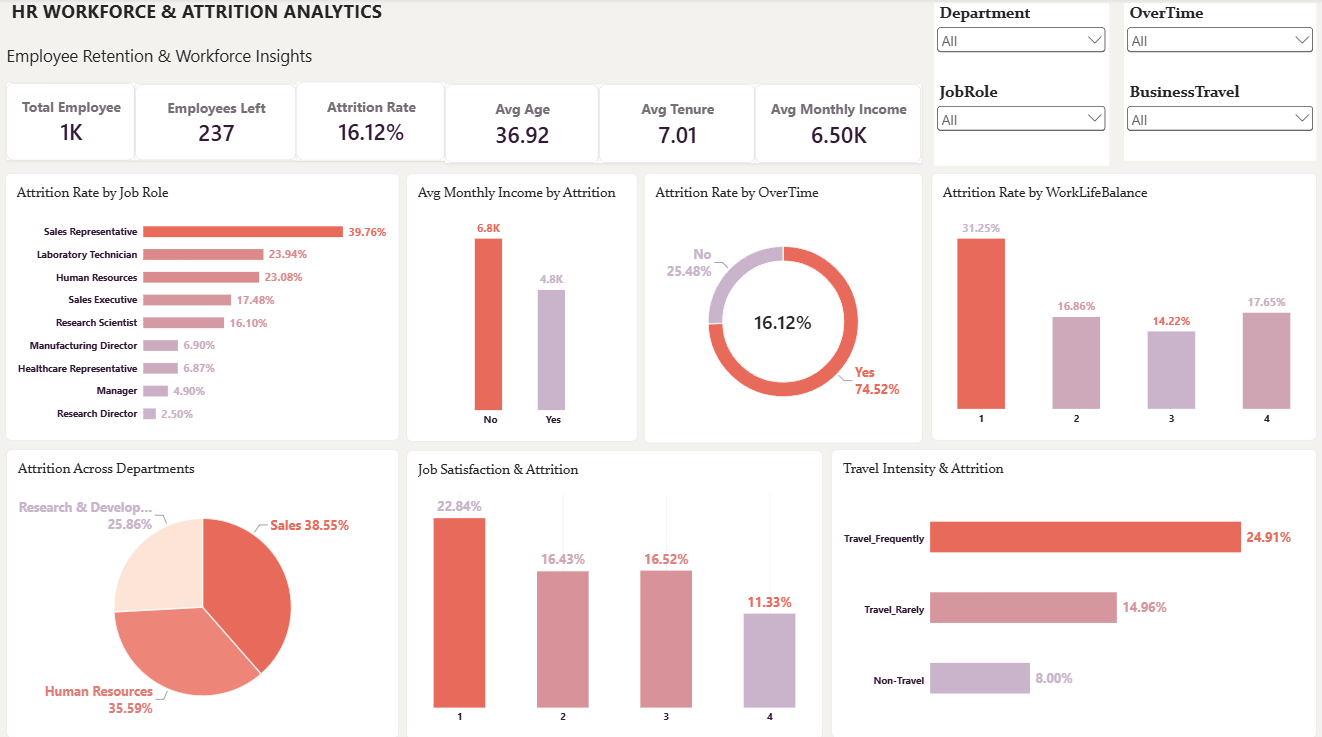

The page's visual inventory and layout, read from the dashboard file:
{"tool":"powerbi","page":{"name":"Page 1","canvas":[1920,1080],"ordinal":0},"visuals":[{"type":"cardVisual","fields":{"Data":["HR_Employee_Attrition_Cleaned.Total Employee"]},"box":[10.9,123.1,186.4,112.2],"z":0},{"type":"cardVisual","fields":{"Data":["HR_Employee_Attrition_Cleaned.Employees Left"]},"box":[197.3,124.9,233.4,110.4],"z":1000},{"type":"cardVisual","fields":{"Data":["HR_Employee_Attrition_Cleaned.Attrition Rate"]},"box":[430.7,121.2,215.3,114],"z":3000},{"type":"cardVisual","fields":{"Data":["HR_Employee_Attrition_Cleaned.Avg Age"]},"box":[646,124.9,222.6,114],"z":4000},{"type":"cardVisual","fields":{"Data":["HR_Employee_Attrition_Cleaned.Avg Tenure"]},"box":[868.6,124.9,226.2,114],"z":5000},{"type":"cardVisual","fields":{"Data":["HR_Employee_Attrition_Cleaned.Avg Monthly Income"]},"box":[1094.8,124.9,240.7,114],"z":7000},{"type":"clusteredBarChart","title":"Attrition Rate by Job Role","fields":{"Category":["HR_Employee_Attrition_Cleaned.JobRole"],"Y":["HR_Employee_Attrition_Cleaned.Attrition Rate"]},"box":[1170.9,251.5,403.6,389.1],"z":8000},{"type":"clusteredColumnChart","title":"Attrition Across Departments","fields":{"Category":["HR_Employee_Attrition_Cleaned.Department"],"Y":["HR_Employee_Attrition_Cleaned.Attrition Rate"]},"box":[10.9,653.3,465.1,418],"z":9000},{"type":"donutChart","fields":{"Category":["HR_Employee_Attrition_Cleaned.OverTime"],"Y":["HR_Employee_Attrition_Cleaned.Attrition Rate"]},"box":[475.9,653.3,363.7,418],"z":10000},{"type":"barChart","title":"Travel Intensity & Attrition","fields":{"Category":["HR_Employee_Attrition_Cleaned.BusinessTravel"],"Y":["HR_Employee_Attrition_Cleaned.Attrition Rate"]},"box":[10.9,251.5,351.1,389.1],"z":11000},{"type":"clusteredColumnChart","title":"Job Satisfaction & Attrition","fields":{"Category":["HR_Employee_Attrition_Cleaned.JobSatisfaction"],"Y":["HR_Employee_Attrition_Cleaned.Attrition Rate"]},"box":[852.4,652.9,392.7,427.1],"z":12000},{"type":"clusteredColumnChart","fields":{"Category":["HR_Employee_Attrition_Cleaned.Attrition"],"Y":["HR_Employee_Attrition_Cleaned.Avg Monthly Income"]},"box":[371,251.5,334.8,389.1],"z":13000},{"type":"columnChart","fields":{"Category":["HR_Employee_Attrition_Cleaned.WorkLifeBalance"],"Y":["HR_Employee_Attrition_Cleaned.Attrition Rate"]},"box":[1576.2,251.5,331.2,389.1],"z":14000},{"type":"textbox","box":[10.9,0,930.2,124.9],"z":15000},{"type":"slicer","fields":{"Values":["HR_Employee_Attrition_Cleaned.Department"]},"box":[1353.6,7.2,253.4,114],"z":16000},{"type":"slicer","fields":{"Values":["HR_Employee_Attrition_Cleaned.JobRole"]},"box":[1353.6,121.2,253.4,121.2],"z":17000},{"type":"slicer","fields":{"Values":["HR_Employee_Attrition_Cleaned.OverTime"]},"box":[1628.7,7.2,278.7,114],"z":18000},{"type":"slicer","fields":{"Values":["HR_Employee_Attrition_Cleaned.BusinessTravel"]},"box":[1628.7,121.2,278.7,114],"z":19000},{"type":"clusteredColumnChart","fields":{"Category":["HR_Employee_Attrition_Cleaned.Tenure Group"],"Y":["HR_Employee_Attrition_Cleaned.Attrition Rate"]},"box":[713,251.5,447,389.1],"z":19001},{"type":"textbox","box":[1259.5,653.3,647.9,427.1],"z":19002}]}

Visuals, with their boxes in screenshot pixels (x1, y1, x2, y2), scaled from the page's 1920x1080 canvas onto the 1322x737 screenshot:
cardVisual - HR_Employee_Attrition_Cleaned.Total Employee: pyautogui.locateOnScreen(8, 84, 136, 161)
cardVisual - HR_Employee_Attrition_Cleaned.Employees Left: pyautogui.locateOnScreen(136, 85, 297, 161)
cardVisual - HR_Employee_Attrition_Cleaned.Attrition Rate: pyautogui.locateOnScreen(297, 83, 445, 161)
cardVisual - HR_Employee_Attrition_Cleaned.Avg Age: pyautogui.locateOnScreen(445, 85, 598, 163)
cardVisual - HR_Employee_Attrition_Cleaned.Avg Tenure: pyautogui.locateOnScreen(598, 85, 754, 163)
cardVisual - HR_Employee_Attrition_Cleaned.Avg Monthly Income: pyautogui.locateOnScreen(754, 85, 920, 163)
"Attrition Rate by Job Role" clusteredBarChart: pyautogui.locateOnScreen(806, 172, 1084, 437)
"Attrition Across Departments" clusteredColumnChart: pyautogui.locateOnScreen(8, 446, 328, 731)
donutChart - HR_Employee_Attrition_Cleaned.OverTime x HR_Employee_Attrition_Cleaned.Attrition Rate: pyautogui.locateOnScreen(328, 446, 578, 731)
"Travel Intensity & Attrition" barChart: pyautogui.locateOnScreen(8, 172, 249, 437)
"Job Satisfaction & Attrition" clusteredColumnChart: pyautogui.locateOnScreen(587, 446, 857, 736)
clusteredColumnChart - HR_Employee_Attrition_Cleaned.Attrition x HR_Employee_Attrition_Cleaned.Avg Monthly Income: pyautogui.locateOnScreen(255, 172, 486, 437)
columnChart - HR_Employee_Attrition_Cleaned.WorkLifeBalance x HR_Employee_Attrition_Cleaned.Attrition Rate: pyautogui.locateOnScreen(1085, 172, 1313, 437)
textbox: pyautogui.locateOnScreen(8, 0, 648, 85)
slicer - HR_Employee_Attrition_Cleaned.Department: pyautogui.locateOnScreen(932, 5, 1106, 83)
slicer - HR_Employee_Attrition_Cleaned.JobRole: pyautogui.locateOnScreen(932, 83, 1106, 165)
slicer - HR_Employee_Attrition_Cleaned.OverTime: pyautogui.locateOnScreen(1121, 5, 1313, 83)
slicer - HR_Employee_Attrition_Cleaned.BusinessTravel: pyautogui.locateOnScreen(1121, 83, 1313, 161)
clusteredColumnChart - HR_Employee_Attrition_Cleaned.Tenure Group x HR_Employee_Attrition_Cleaned.Attrition Rate: pyautogui.locateOnScreen(491, 172, 799, 437)
textbox: pyautogui.locateOnScreen(867, 446, 1313, 736)
